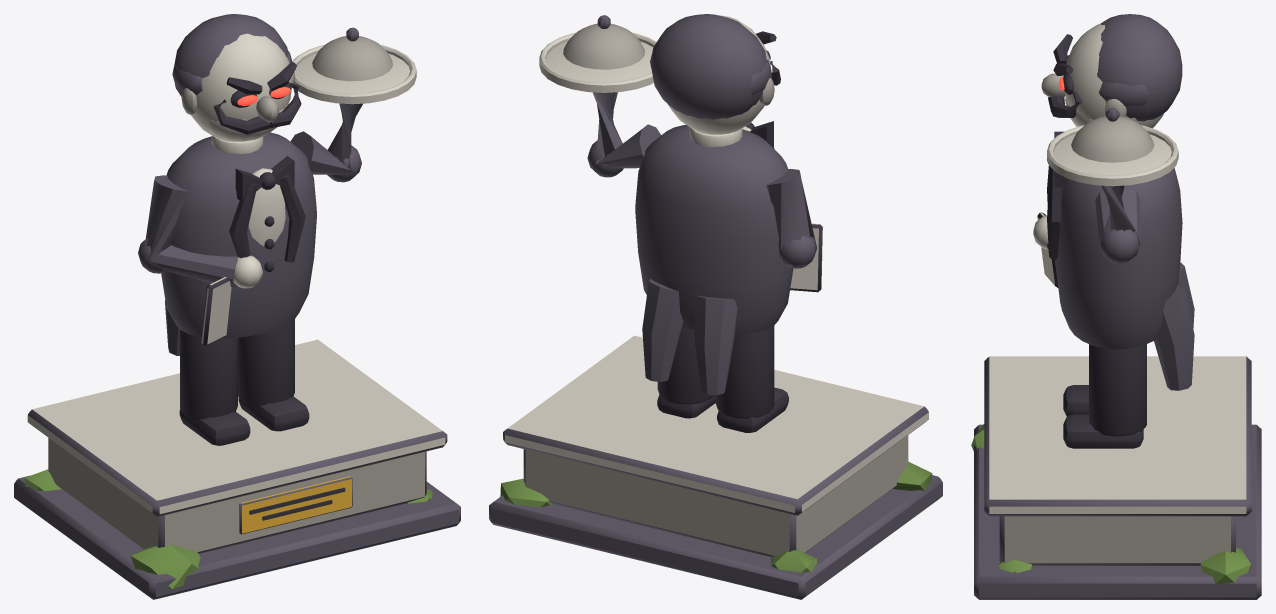
The model's file is statue_butler.glb.
3 views of the same model, side by side, from view 1: azimuth 30°, elevation 25°; view 2: azimuth 150°, elevation 25°; view 3: azimuth 270°, elevation 25° (orthographic). The views are drawn at different scales.
Visible parts, largest first — view 1: Plinth, Body, Head; view 2: Plinth, Body, Head; view 3: Plinth, Body, Head.
Boxes of the visible parts, x1,y1,x2,y2 form: Plinth: [14, 339, 460, 599]; Body: [138, 27, 416, 445]; Head: [172, 14, 301, 141]; Plinth: [489, 335, 942, 599]; Body: [539, 15, 822, 432]; Head: [650, 14, 780, 134]; Plinth: [971, 356, 1261, 599]; Body: [1033, 107, 1194, 448]; Head: [1041, 14, 1182, 128].
Bounding box in the file's own units: 3.74 × 5.43 × 2.83.
